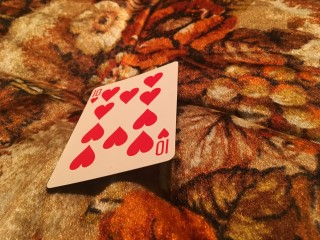TenOfHearts: (46, 61, 177, 187)
